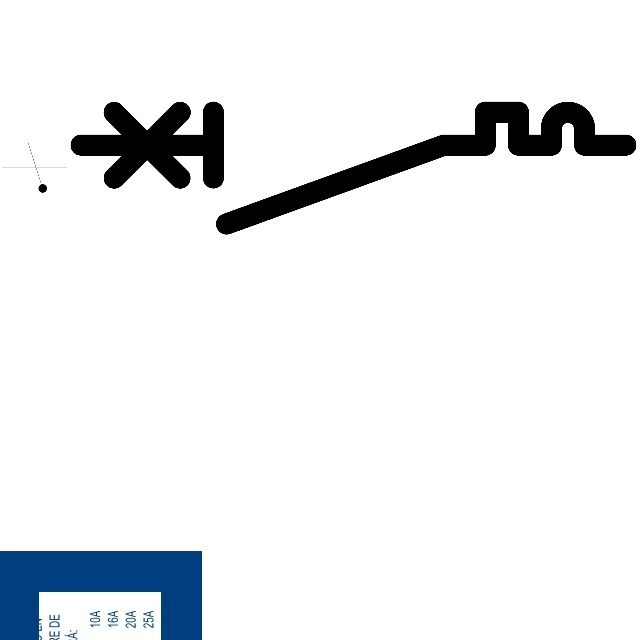interruptor_termomagnetico: (66, 98, 639, 238)
